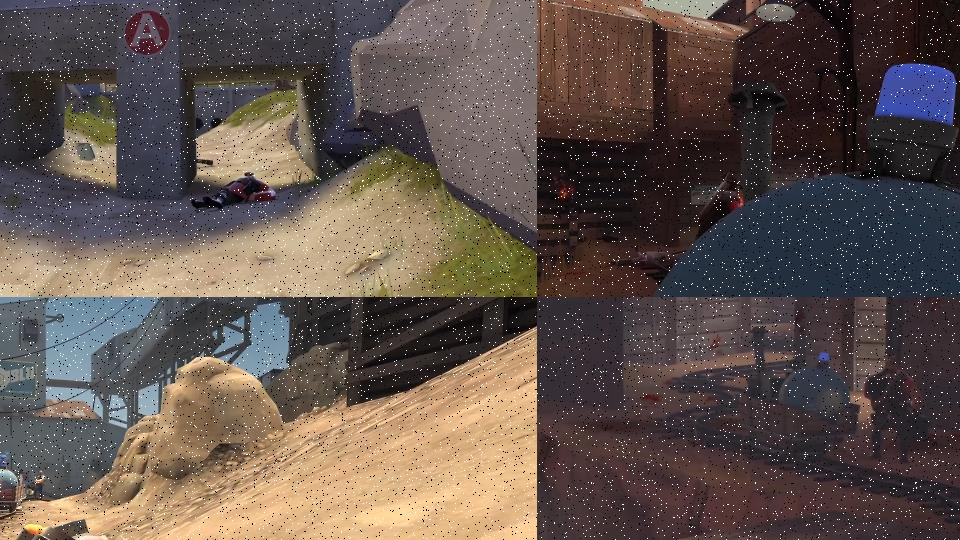Enemy: (861, 355, 927, 474), (693, 172, 742, 243), (192, 172, 276, 210), (610, 245, 687, 266), (27, 471, 45, 501)
